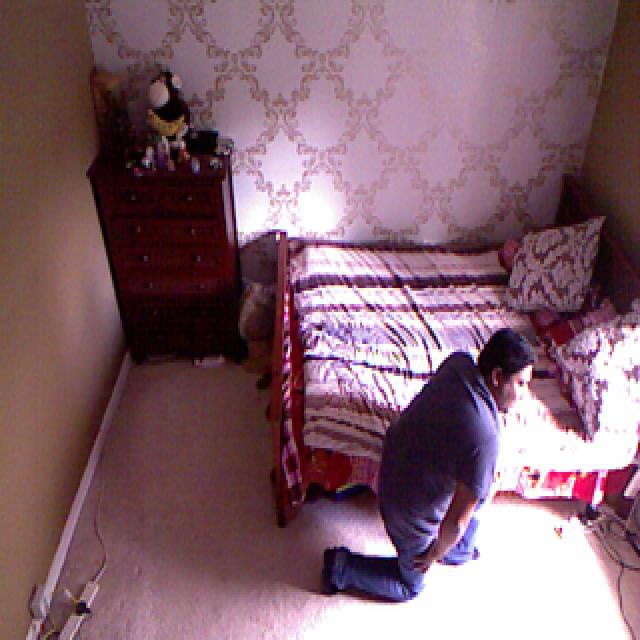crawling: (312, 328, 537, 608)
